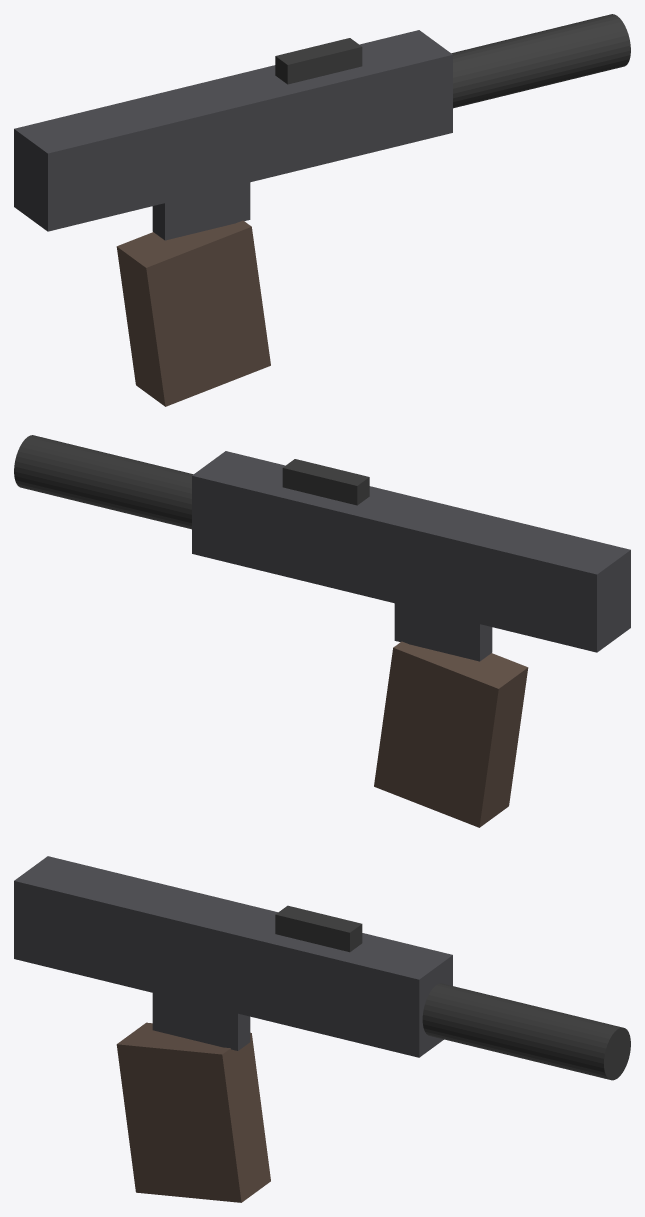
File: pistola.glb
The picture shows the model from 3 angles, top to bottom: view 1: azimuth 30°, elevation 25°; view 2: azimuth 150°, elevation 25°; view 3: azimuth 330°, elevation 25°; orthographic projection.
Visible parts, largest first — view 1: Pistola; view 2: Pistola; view 3: Pistola.
Part boxes in pixels (x1=…): Pistola: x1=14, y1=14, x2=630, y2=406; Pistola: x1=14, y1=435, x2=630, y2=827; Pistola: x1=14, y1=856, x2=630, y2=1202.
Size of the model in its own units: 0.55 by 0.2721 by 0.055.
